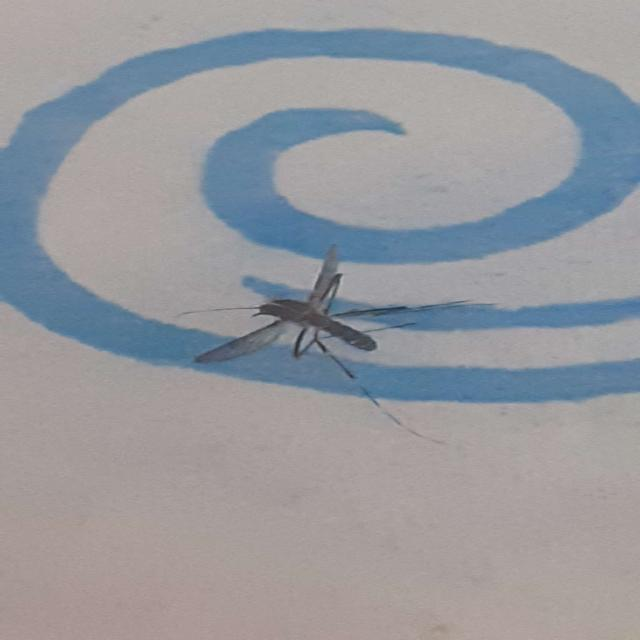albopictus: (175, 232, 498, 402)
